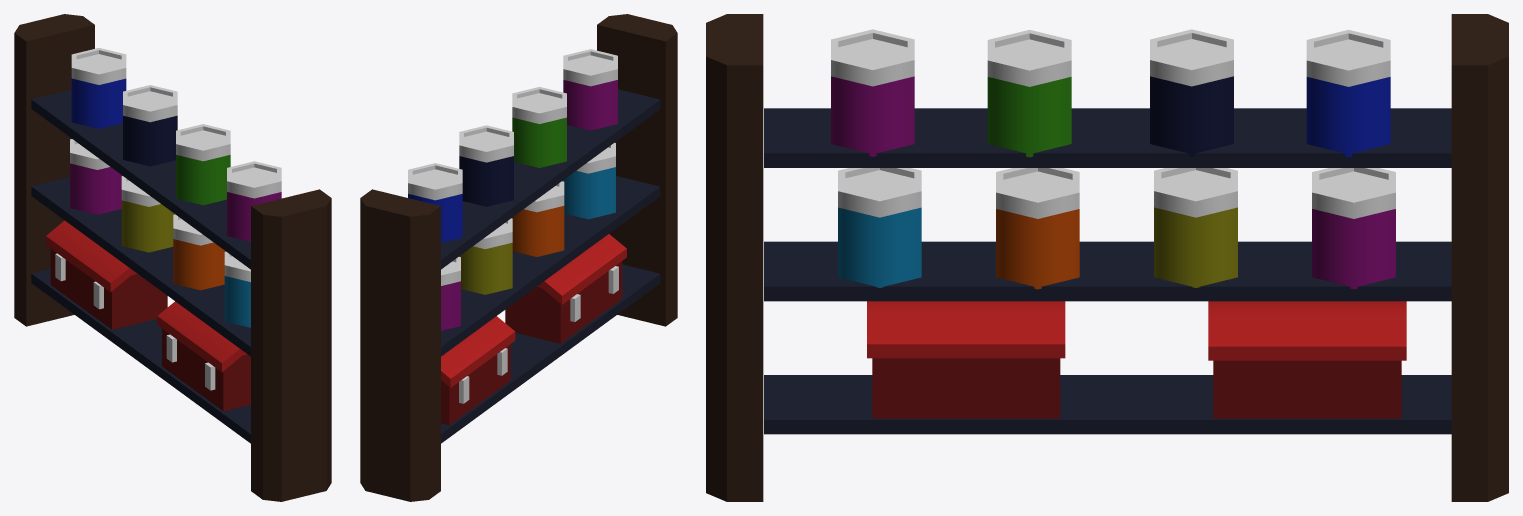
File: Stillage_2.FBX
3 renders of one model, left to right at view 1: azimuth 30°, elevation 25°; view 2: azimuth 150°, elevation 25°; view 3: azimuth 270°, elevation 25°, orthographic. The views are drawn at different scales.
Visible parts, largest first — view 1: Stelaj_2; view 2: Stelaj_2; view 3: Stelaj_2.
Part boxes in pixels (box(x1,y1,x2,y2)): Stelaj_2: box(14, 14, 331, 501); Stelaj_2: box(360, 14, 677, 501); Stelaj_2: box(706, 14, 1508, 501).
Size of the model in its own units: 4.53 by 17.97 by 29.94.
